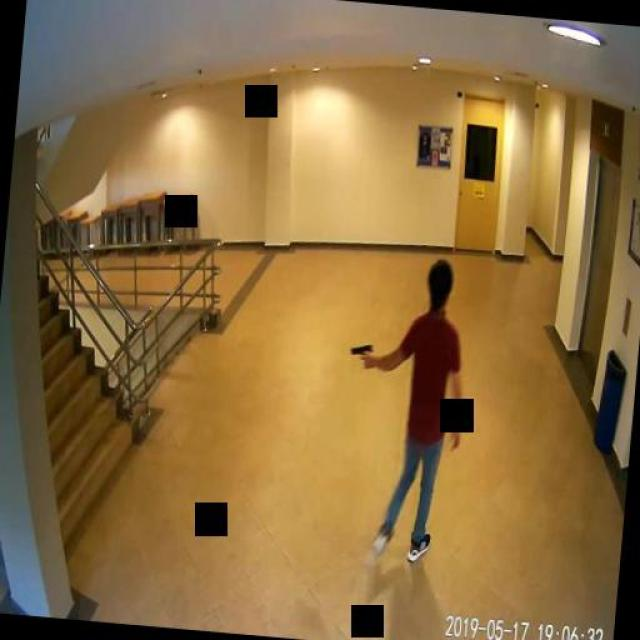gun: (348, 340, 373, 368)
